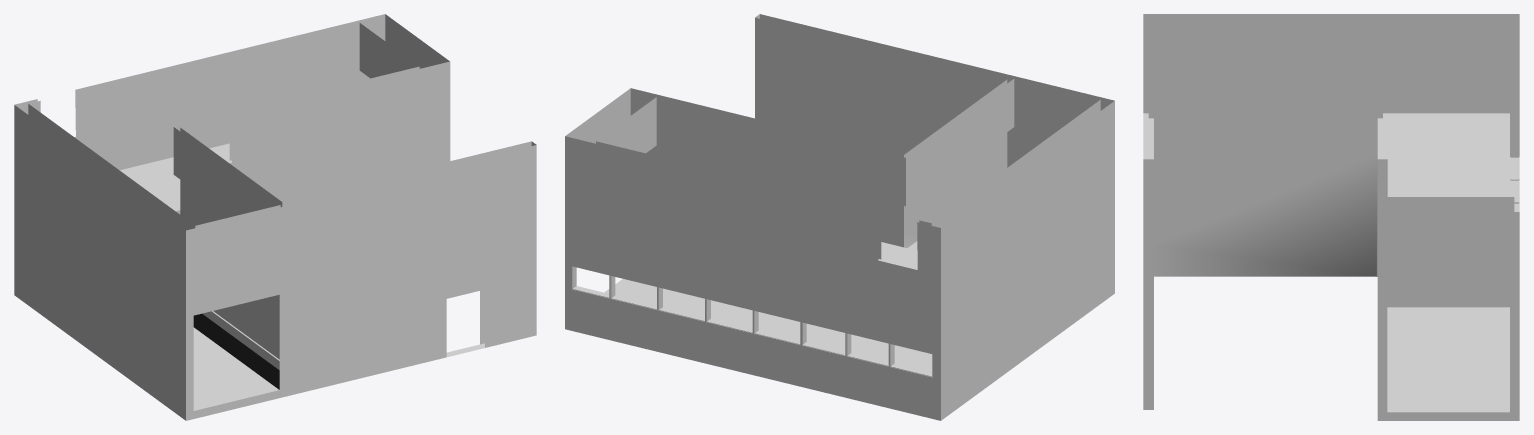
Rendered from SM_Arc_CorridorGuns_A_V3.fbx.
The picture shows the model from 3 angles, left to right: view 1: azimuth 30°, elevation 25°; view 2: azimuth 150°, elevation 25°; view 3: azimuth 270°, elevation 25°; orthographic projection. The views are drawn at different scales.
Visible parts, largest first — view 1: SM_Arc_CorridorGuns_A_V3; view 2: SM_Arc_CorridorGuns_A_V3; view 3: SM_Arc_CorridorGuns_A_V3.
Part boxes in pixels (x1=…): SM_Arc_CorridorGuns_A_V3: x1=14, y1=14, x2=536, y2=420; SM_Arc_CorridorGuns_A_V3: x1=565, y1=14, x2=1114, y2=420; SM_Arc_CorridorGuns_A_V3: x1=1143, y1=14, x2=1519, y2=420.
Bounding box in the file's own units: 2534 × 2032 × 1244.
Materials: 2 (2 with a texture image).
